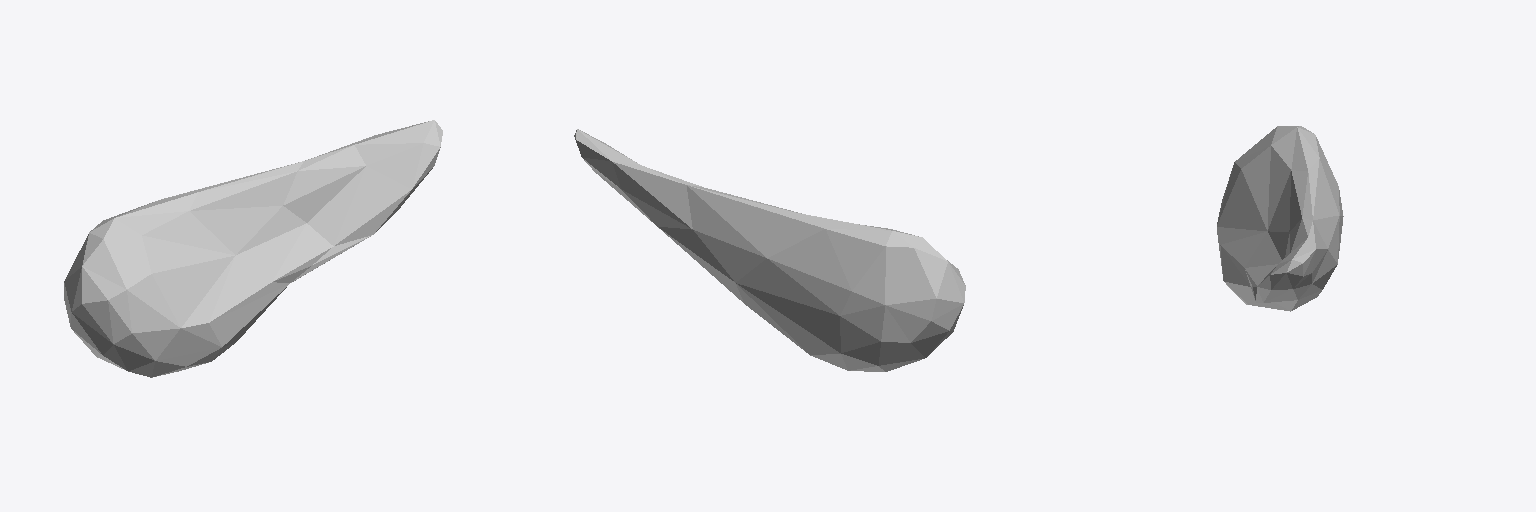
Rendered from organs_pancreas_collision.obj.
3 renders of one model, left to right at view 1: azimuth 30°, elevation 25°; view 2: azimuth 150°, elevation 25°; view 3: azimuth 270°, elevation 25°, orthographic.
Visible parts, largest first — view 1: Pancreas_polySurface1.008; view 2: Pancreas_polySurface1.008; view 3: Pancreas_polySurface1.008.
Boxes of the visible parts, box(x1,y1,x2,y2) form: Pancreas_polySurface1.008: box(64, 120, 442, 377); Pancreas_polySurface1.008: box(574, 129, 965, 371); Pancreas_polySurface1.008: box(1217, 126, 1343, 311).
Size of the model in its own units: 9.71 by 4.22 by 2.8.